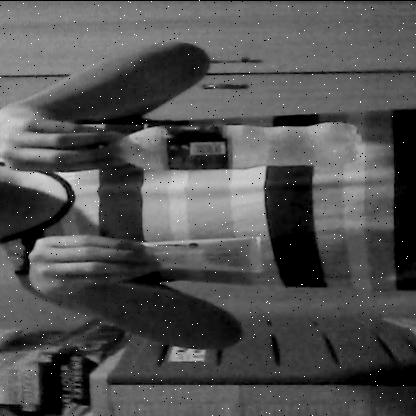Plastic Bottle: (64, 120, 368, 175)
